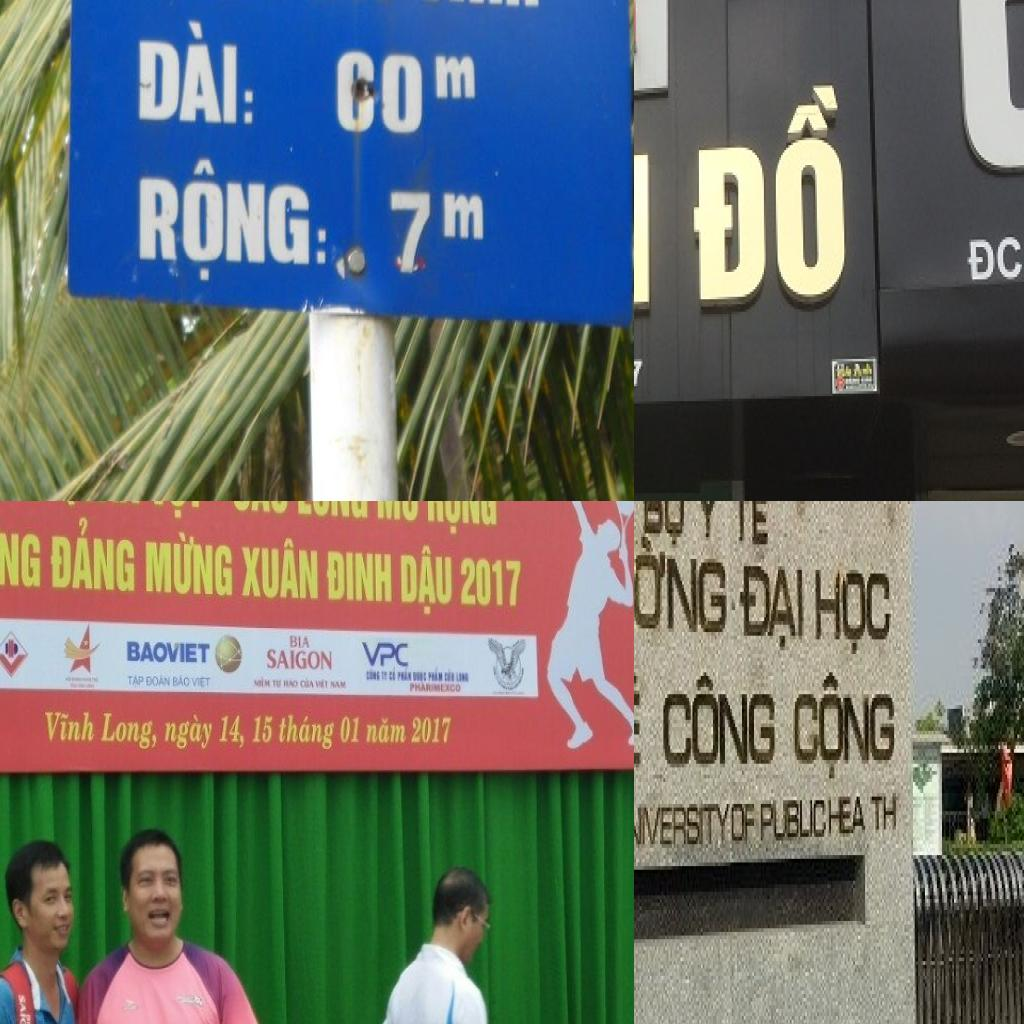text: (692, 86, 851, 312), (120, 155, 337, 292), (314, 30, 482, 154), (123, 8, 271, 143), (793, 672, 898, 786), (662, 672, 778, 771), (634, 526, 730, 635), (48, 514, 137, 596), (814, 566, 892, 658), (143, 527, 235, 600), (739, 563, 805, 654), (240, 535, 322, 604), (634, 803, 731, 851), (399, 541, 455, 617), (325, 548, 395, 606), (459, 557, 523, 611), (761, 797, 829, 844), (0, 517, 43, 591), (828, 793, 900, 837), (425, 501, 499, 541), (965, 237, 1024, 284), (276, 712, 338, 755), (100, 710, 159, 754), (641, 501, 687, 555), (125, 640, 213, 666), (162, 712, 217, 753), (730, 501, 771, 548), (44, 710, 99, 744), (147, 501, 225, 524), (265, 648, 334, 672), (360, 639, 411, 671), (295, 501, 371, 522), (365, 715, 410, 746), (216, 712, 247, 752), (695, 501, 723, 544), (374, 501, 422, 524), (732, 804, 757, 844), (230, 501, 290, 517), (337, 715, 363, 746), (251, 713, 276, 745), (145, 672, 172, 689), (15, 992, 28, 1024), (288, 634, 313, 650), (434, 682, 464, 695), (251, 675, 272, 691), (190, 675, 212, 689), (126, 674, 146, 689), (397, 666, 413, 684), (172, 674, 191, 689), (408, 682, 428, 695), (299, 676, 317, 690), (364, 670, 382, 684), (330, 679, 349, 692), (283, 679, 299, 691), (314, 678, 330, 690), (389, 665, 397, 685), (271, 678, 283, 690), (380, 670, 390, 684)
